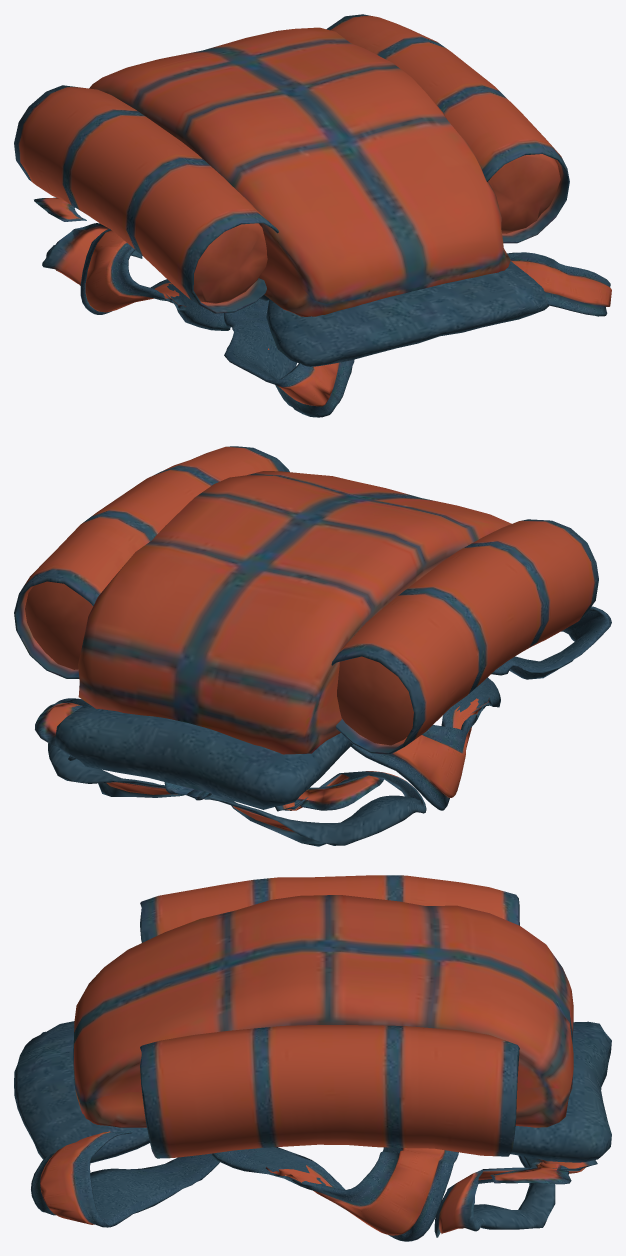
Rendered from backpack.glb.
3 views of the same model, one above another, from view 1: azimuth 30°, elevation 25°; view 2: azimuth 150°, elevation 25°; view 3: azimuth 270°, elevation 25° (orthographic). The views are drawn at different scales.
Parts seen in each view (by area): view 1: Astronaut_Suit_Backpack_Belts_02_Mesh.003; view 2: Astronaut_Suit_Backpack_Belts_02_Mesh.003; view 3: Astronaut_Suit_Backpack_Belts_02_Mesh.003.
Boxes of the visible parts, x1,y1,x2,y2 form: Astronaut_Suit_Backpack_Belts_02_Mesh.003: (14, 14, 611, 417); Astronaut_Suit_Backpack_Belts_02_Mesh.003: (14, 446, 611, 846); Astronaut_Suit_Backpack_Belts_02_Mesh.003: (14, 875, 611, 1241).
Bounding box in the file's own units: 0.5272 × 0.2771 × 0.6471.
1 material, 1 textured.
